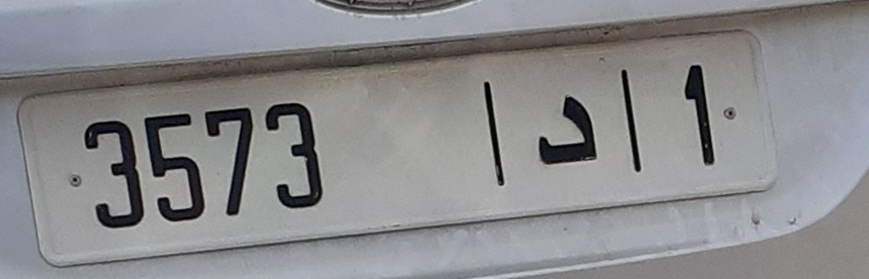1: (668, 54, 719, 179)
3: (73, 113, 146, 239), (263, 87, 331, 213)
5: (142, 101, 213, 232)
7: (197, 93, 258, 231)
d: (524, 86, 608, 177)
